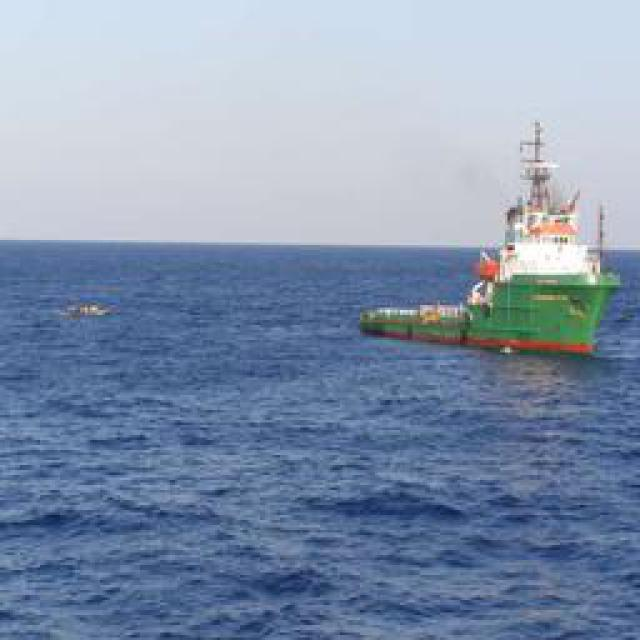Ship: (368, 120, 623, 360)
